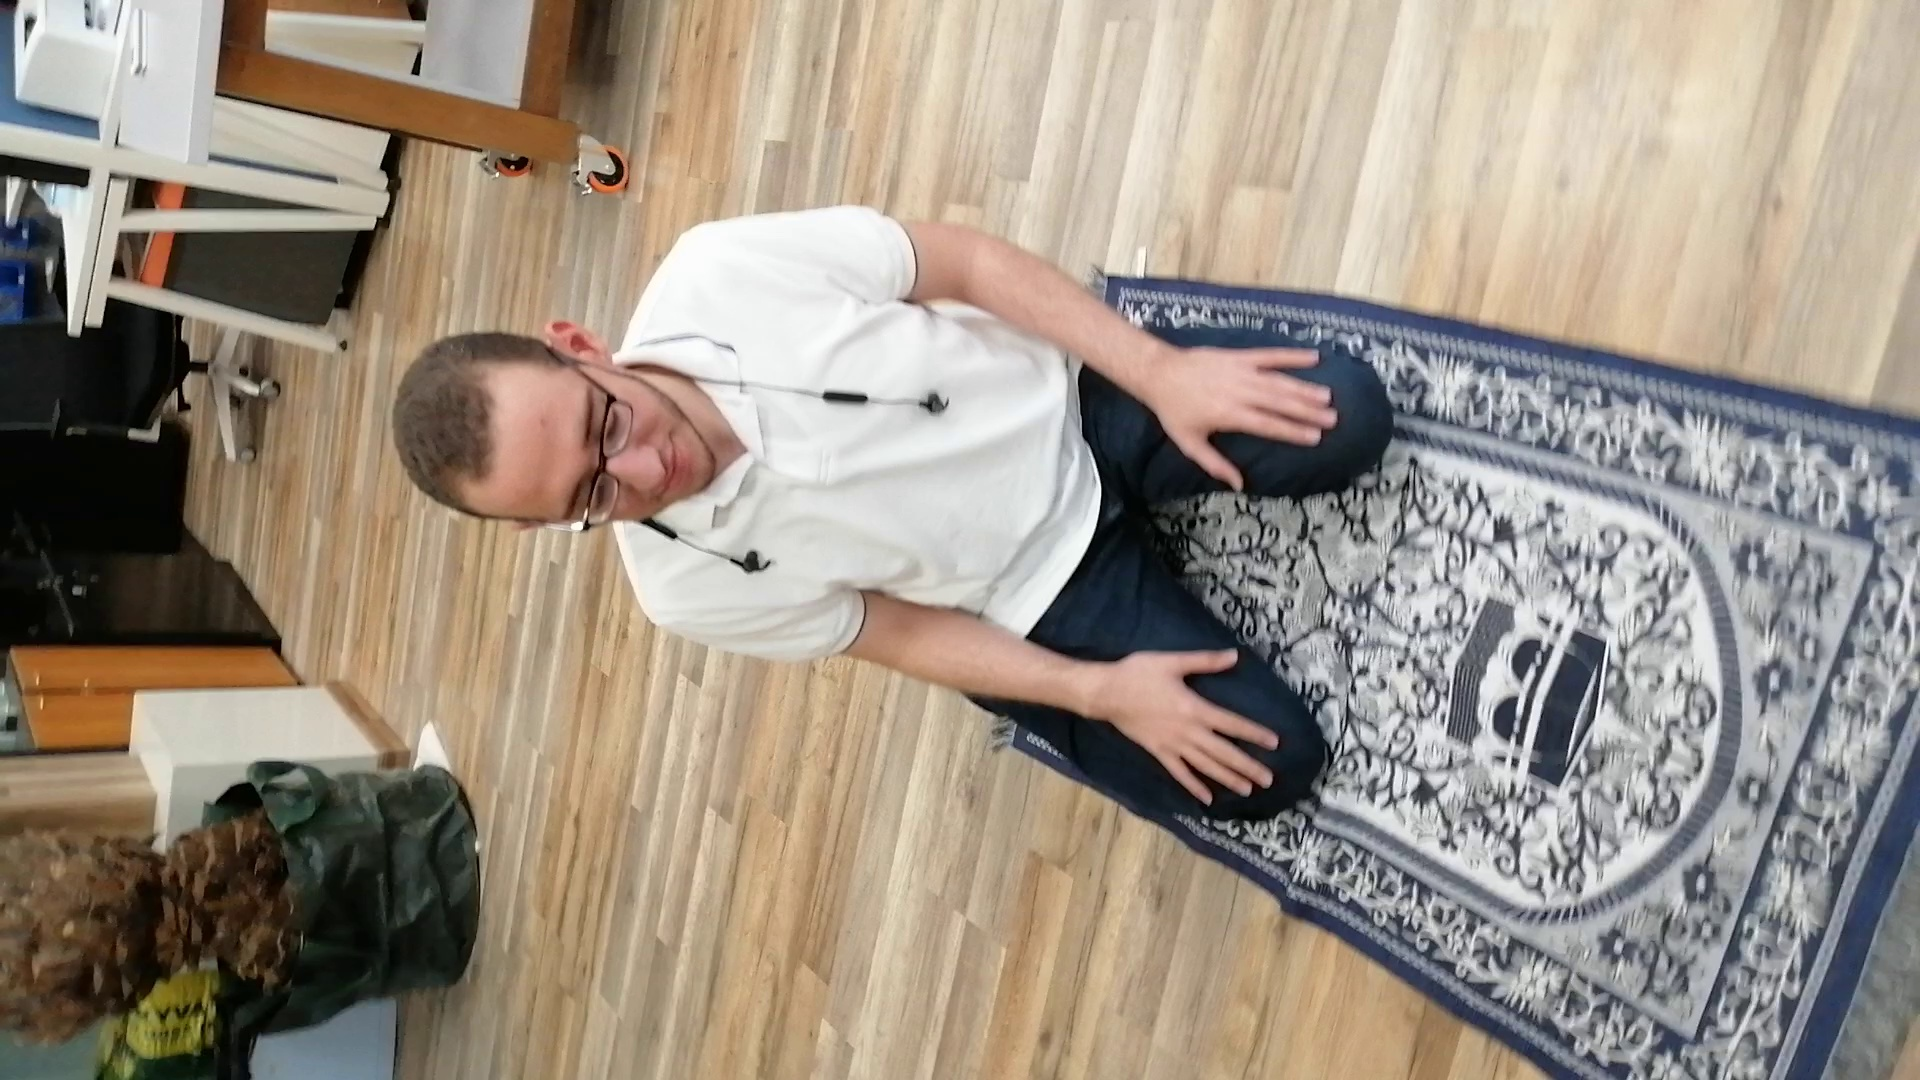sitting: (376, 194, 1404, 833)
